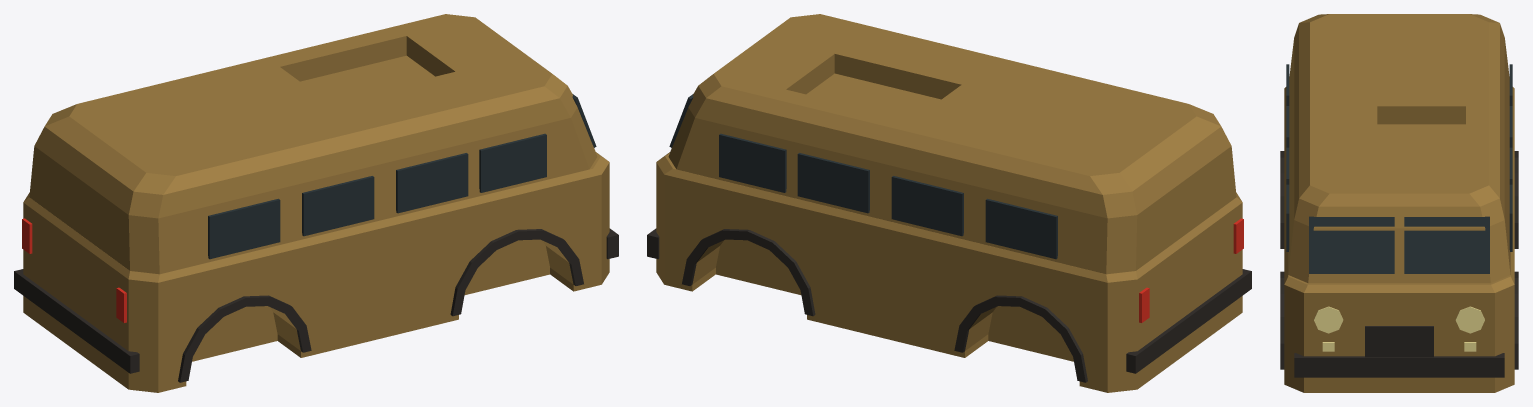
Rendered from base_bukhanka.glb.
3 renders of one model, left to right at view 1: azimuth 30°, elevation 25°; view 2: azimuth 150°, elevation 25°; view 3: azimuth 270°, elevation 25°, orthographic. The views are drawn at different scales.
Visible parts, largest first — view 1: base_bukhanka; view 2: base_bukhanka; view 3: base_bukhanka.
Part boxes in pixels (x1=…): base_bukhanka: x1=14, y1=14, x2=618, y2=392; base_bukhanka: x1=647, y1=14, x2=1251, y2=392; base_bukhanka: x1=1280, y1=14, x2=1518, y2=392.
Bounding box in the file's own units: 5.2 × 2.02 × 2.42.
